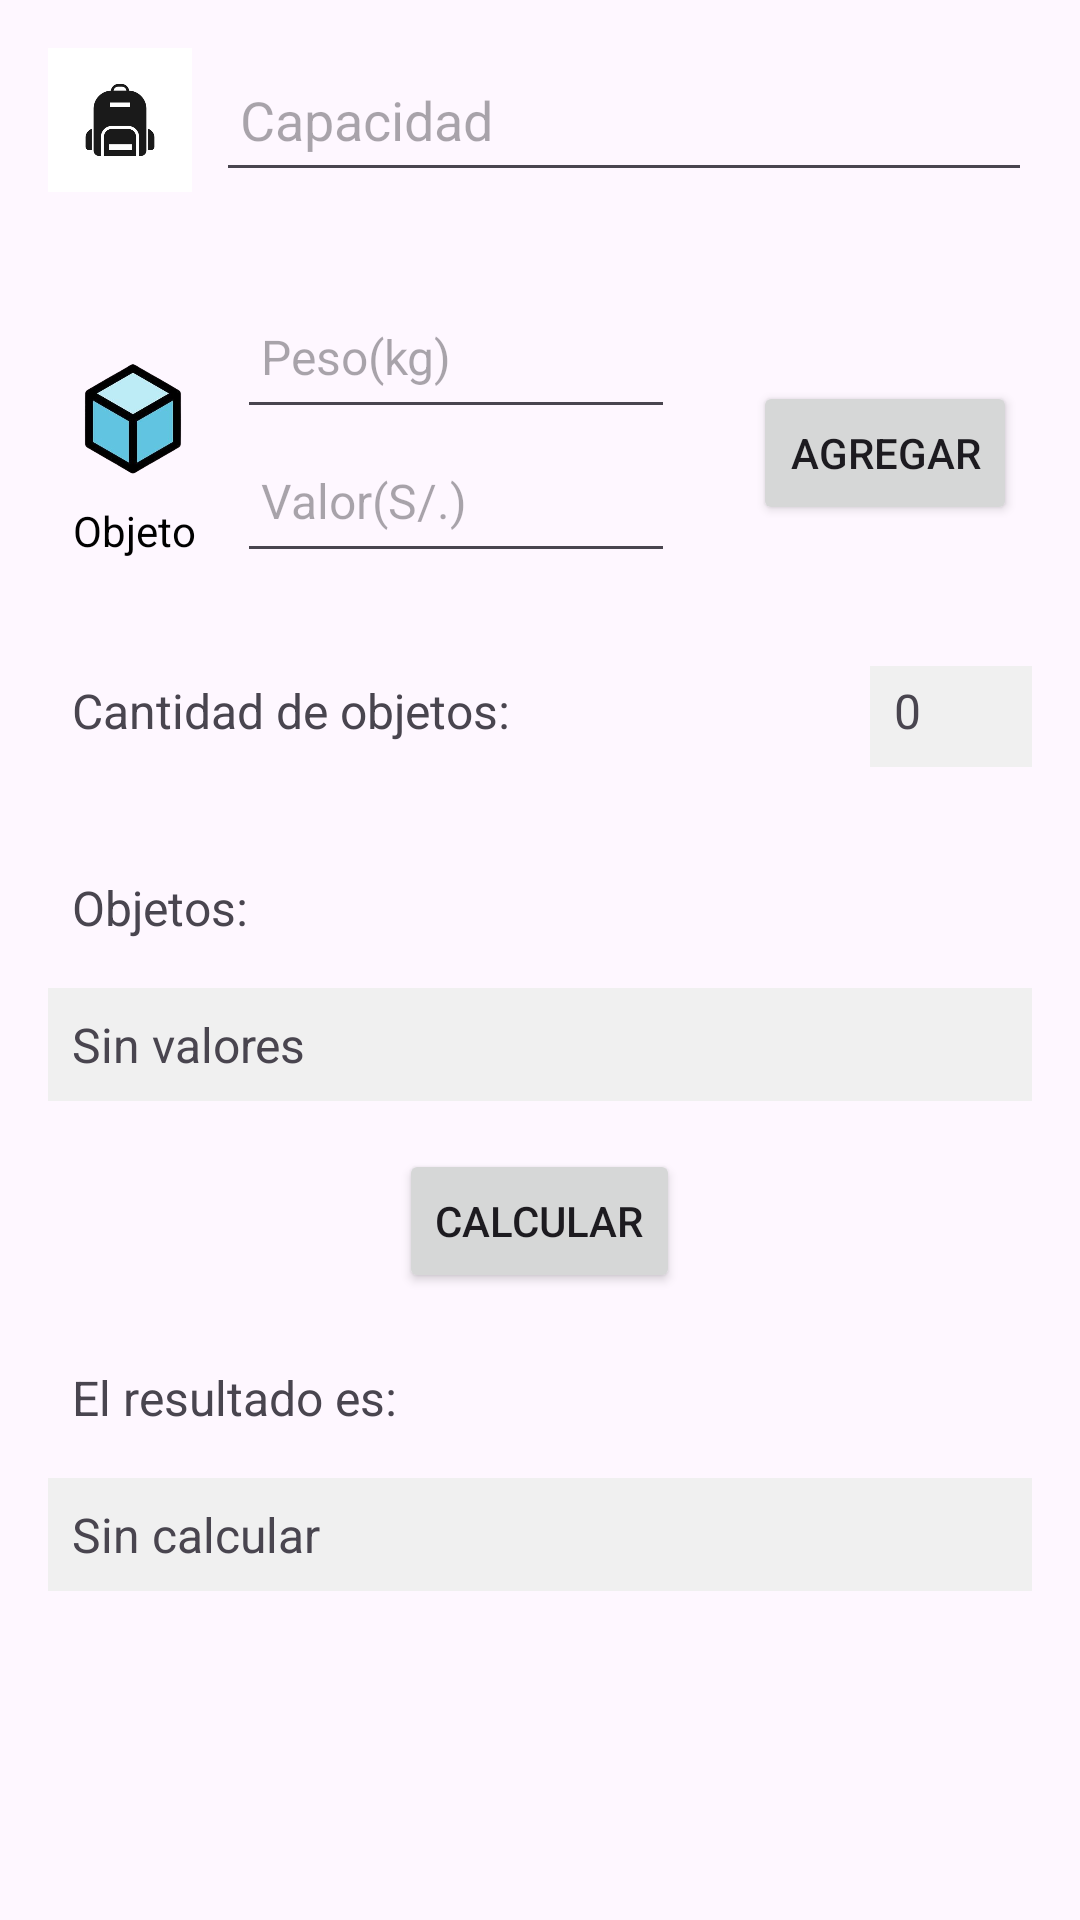

Where icons sit on this 1080×1920 app screen, as (x1, y1, x2, y2):
mochila: (85, 84, 155, 156)
